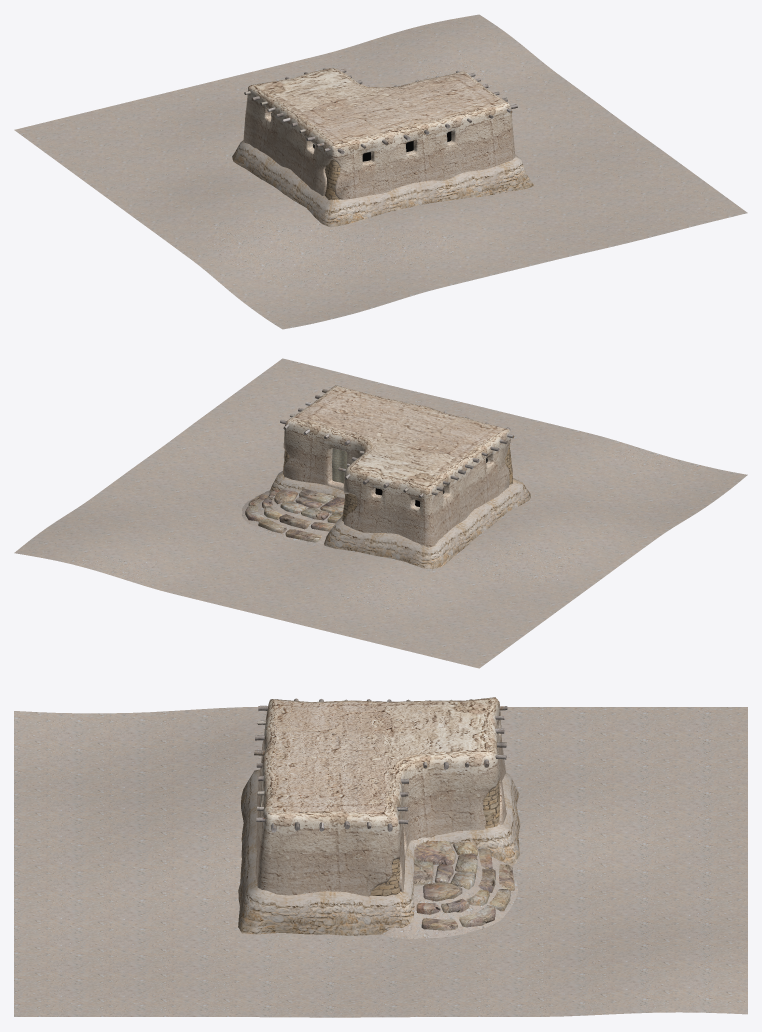
File: DESERT_HOUSE_01.fbx
The picture shows the model from 3 angles, top to bottom: view 1: azimuth 30°, elevation 25°; view 2: azimuth 150°, elevation 25°; view 3: azimuth 270°, elevation 25°; orthographic projection. The views are drawn at different scales.
Parts seen in each view (by area): view 1: GROUND, DESERT_HOUSE_01; view 2: GROUND, DESERT_HOUSE_01; view 3: GROUND, DESERT_HOUSE_01.
Boxes of the visible parts, left/top/right/bottom form: GROUND: left=14, top=14, right=747, bottom=329; DESERT_HOUSE_01: left=232, top=68, right=533, bottom=227; GROUND: left=14, top=358, right=747, bottom=668; DESERT_HOUSE_01: left=242, top=385, right=530, bottom=569; GROUND: left=14, top=707, right=747, bottom=1017; DESERT_HOUSE_01: left=238, top=697, right=520, bottom=939.
Bounding box in the file's own units: 3000 × 536 × 3000.
